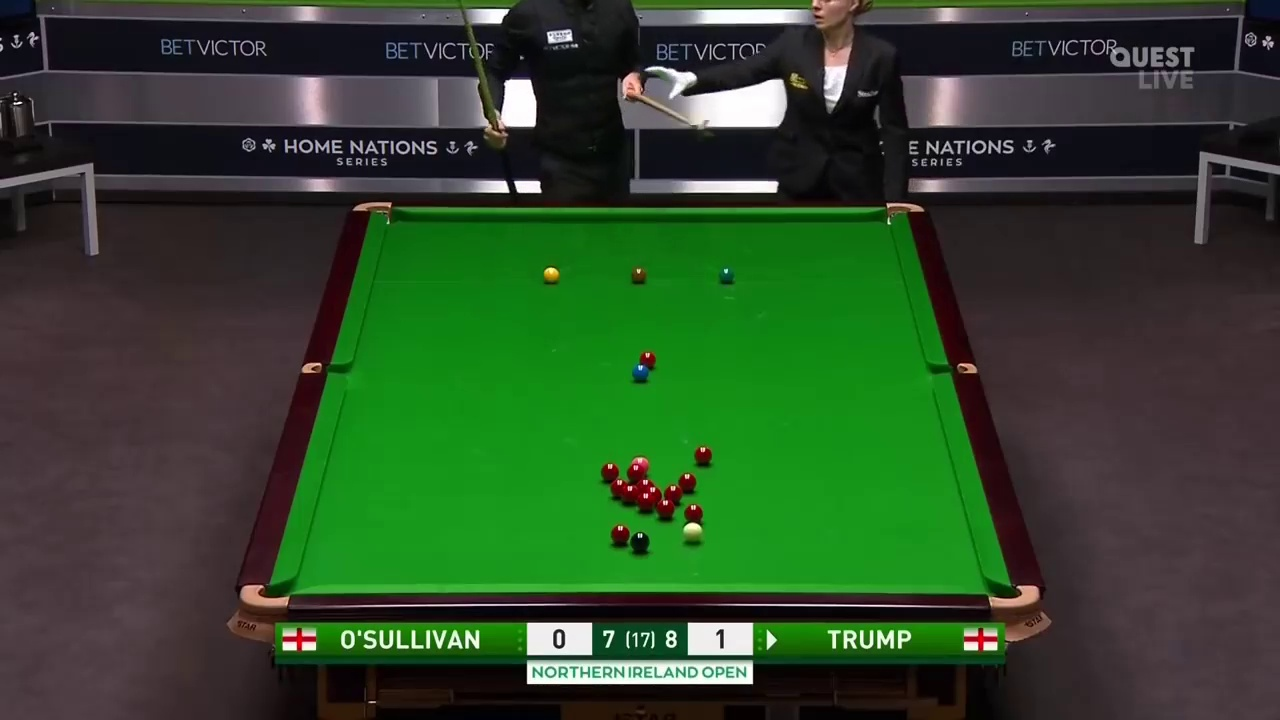black: (629, 532, 650, 554)
blue: (632, 366, 650, 383)
brown: (630, 267, 648, 281)
green: (717, 266, 736, 285)
red: (678, 469, 697, 494), (600, 463, 619, 486), (656, 497, 675, 517), (612, 525, 630, 545), (620, 484, 635, 506), (695, 447, 712, 464), (641, 350, 656, 363)
white: (682, 523, 704, 544)
yellow: (541, 266, 559, 281)
